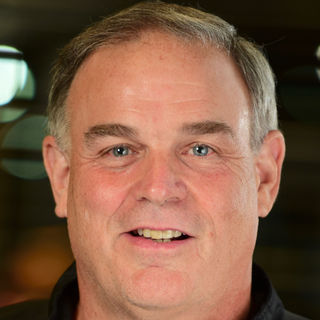eye: (95, 139, 142, 164), (178, 138, 225, 163)
